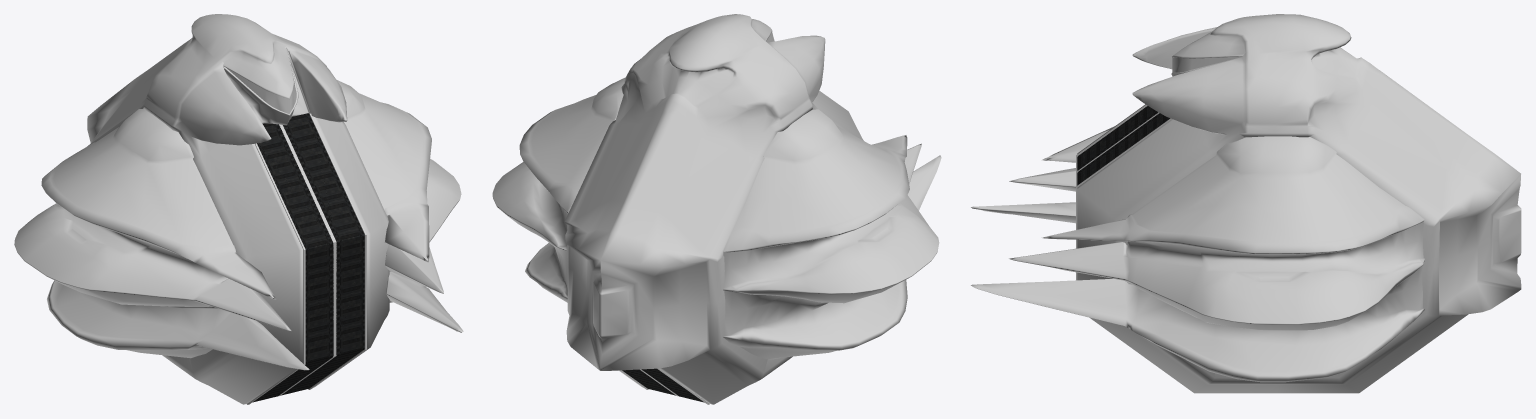
File: fvrecy00.fbx
3 renders of one model, left to right at view 1: azimuth 30°, elevation 25°; view 2: azimuth 150°, elevation 25°; view 3: azimuth 270°, elevation 25°, orthographic. The views are drawn at different scales.
Parts seen in each view (by area): view 1: foot_r, main_body, foot_l, tractor_l, tractor_r, tread_l, tread_r, cockpit1; view 2: main_body, foot_r, foot_l, tractor_r, tractor_l; view 3: foot_l, main_body, foot_r, tractor_l, tractor_r, cockpit1.
Part boxes in pixels (x1,y1,x2,y2): foot_r: (14,108,309,370); main_body: (87,14,389,404); foot_l: (337,80,463,332); tractor_l: (281,113,364,395); tractor_r: (253,123,333,402); tread_l: (280,113,366,395); tread_r: (247,124,334,404); cockpit1: (226,67,296,113); main_body: (564,14,863,404); foot_r: (723,109,941,359); foot_l: (492,77,625,302); tractor_r: (641,368,704,402); tractor_l: (622,369,675,395); foot_l: (971,136,1424,382); main_body: (1077,14,1521,393); foot_r: (971,126,1114,223); tractor_l: (1077,113,1170,185); tractor_r: (1077,106,1158,170); cockpit1: (1172,57,1241,72).
Size of the model in its own units: 22.05 by 18.57 by 24.6.
